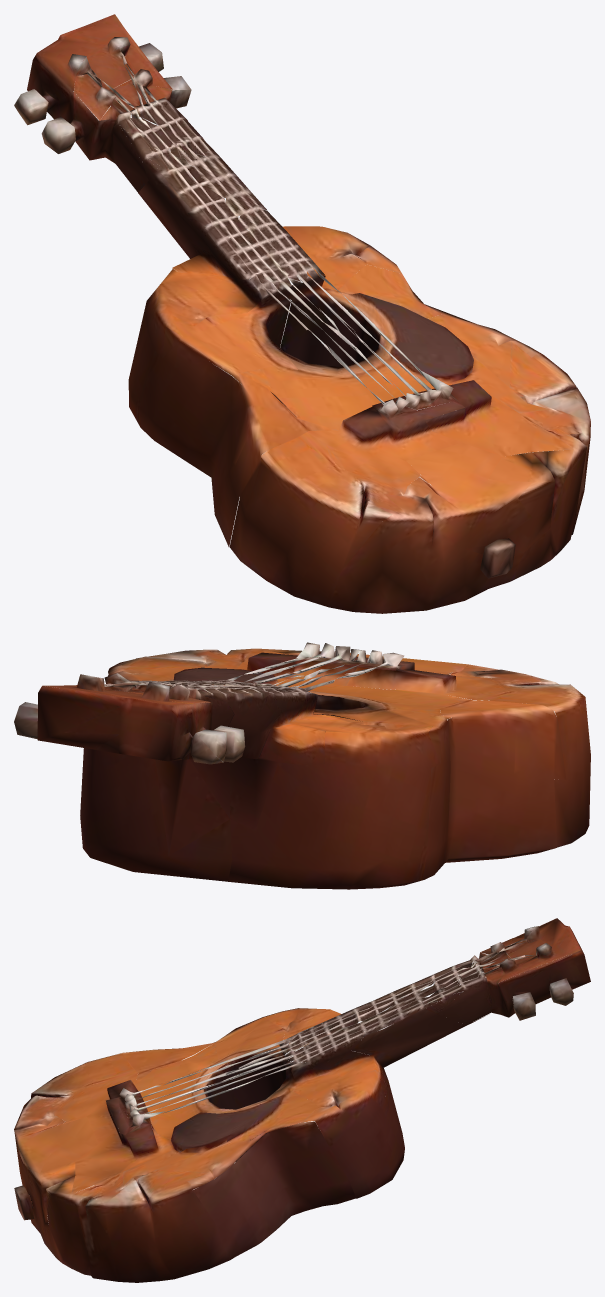
File: guitar.glb
3 renders of one model, top to bottom at view 1: azimuth 30°, elevation 25°; view 2: azimuth 150°, elevation 25°; view 3: azimuth 270°, elevation 25°, orthographic. The views are drawn at different scales.
Visible parts, largest first — view 1: item; view 2: item; view 3: item.
Boxes of the visible parts, box(x1,y1,x2,y2) form: item: box(14, 14, 590, 613); item: box(14, 642, 590, 889); item: box(14, 918, 590, 1282).
Bounding box in the file's own units: 0.5637 × 0.521 × 0.9991.
Materials: 1 (1 with a texture image).
